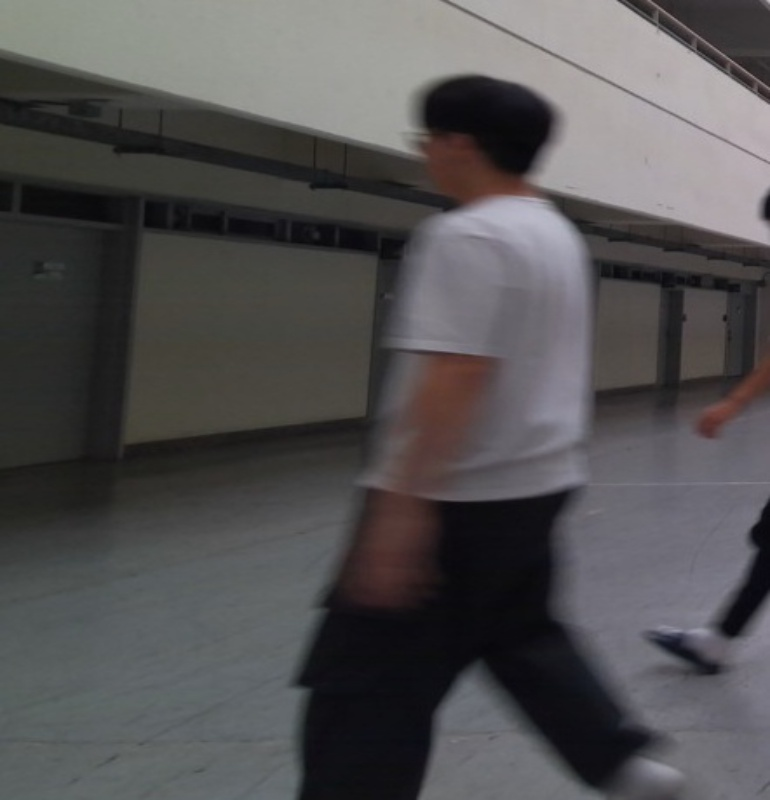person: (284, 73, 687, 800)
